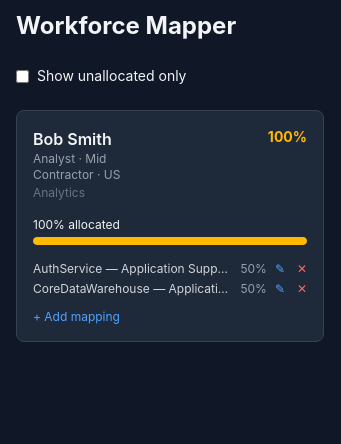
MappingView › edit: blocks changing activity to one that already has a mapping
The width and height of the screenshot is (341, 444).
Expected: the text "Bob Smith" is shown, [33,127,120,151]
Click the button named "edit AuthService". click: (280, 269)
box: [267,253,293,285]
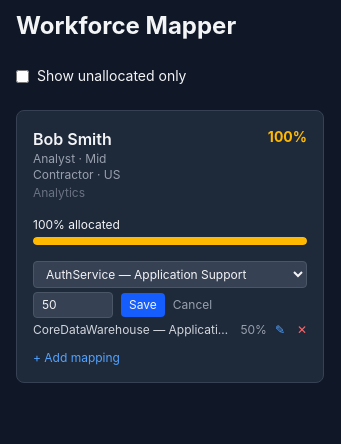
Select "CoreDataWarehouse — Application Support" in the dropdown. click: (170, 274)
box: [33,261,307,288]
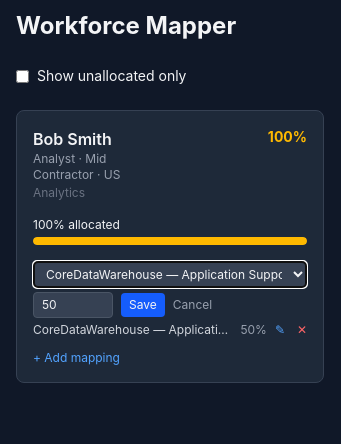
Click the button "Save". click: (143, 305)
box: [121,293,165,317]
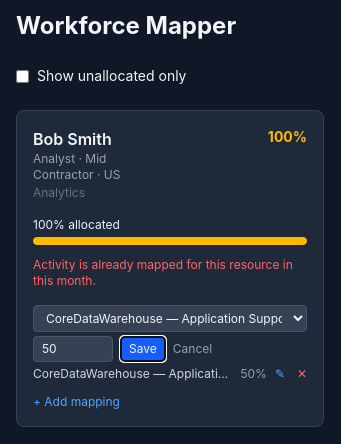
Result: the text "Activity is already mapped for this resource in this month." is shown at [33,257,307,289]
